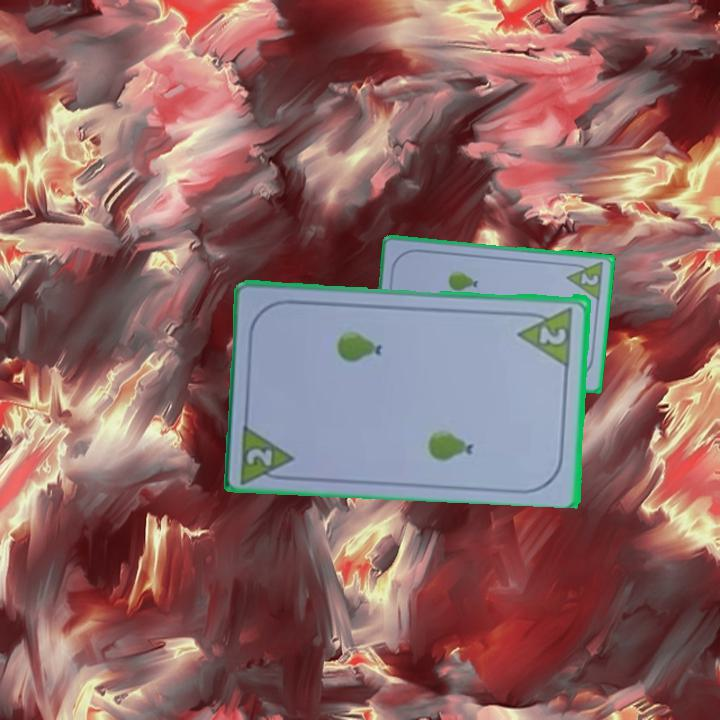2p: (237, 419, 299, 484), (515, 303, 576, 367), (564, 258, 607, 302)
